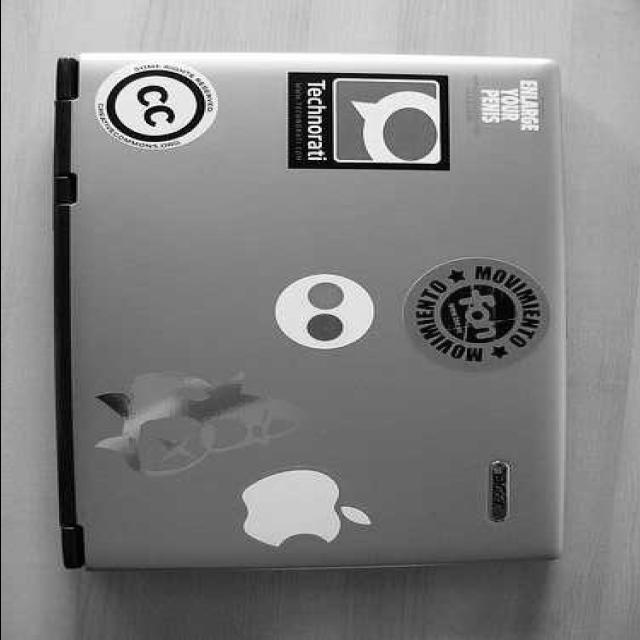laptop: (46, 57, 574, 575)
